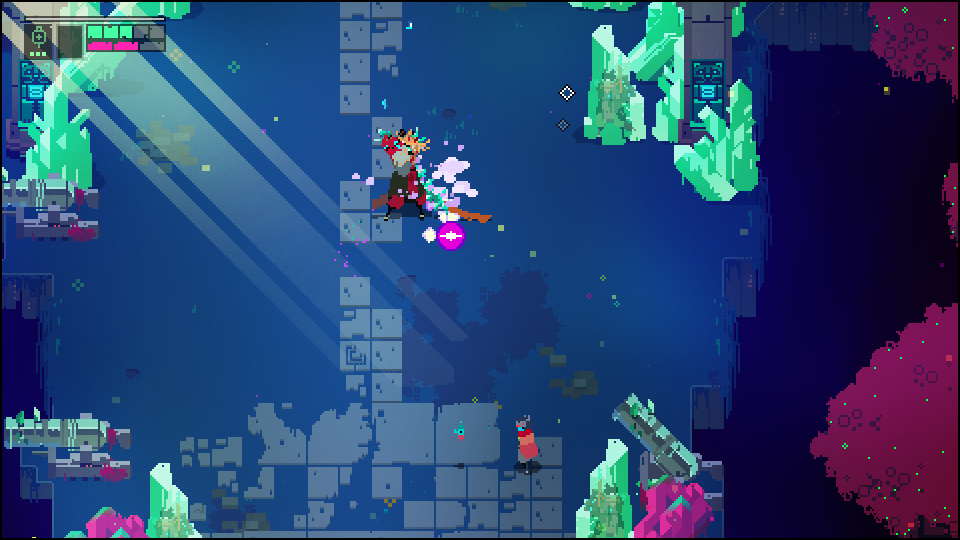hanged_man: (370, 125, 445, 212)
hanged_shot: (436, 219, 467, 253)
player: (514, 417, 539, 472)
